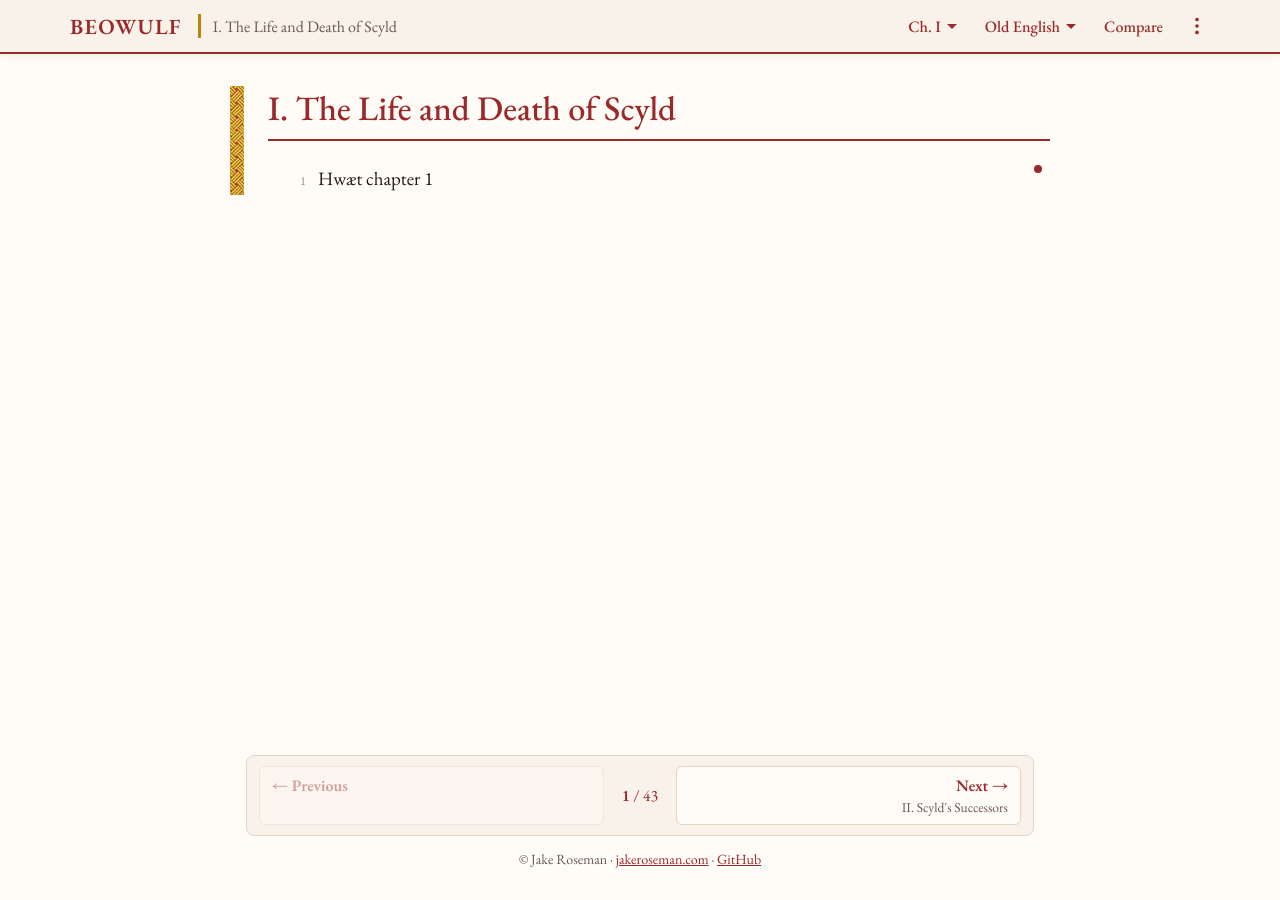
Scenario: navigates between chapters and switches translations
The width and height of the screenshot is (1280, 900).
Expected: the text "Hwæt chapter 1" is shown, [318,166,433,191]
Click the button with aria-label "Next chapter" at (982, 786), box [676,766,1021,825]
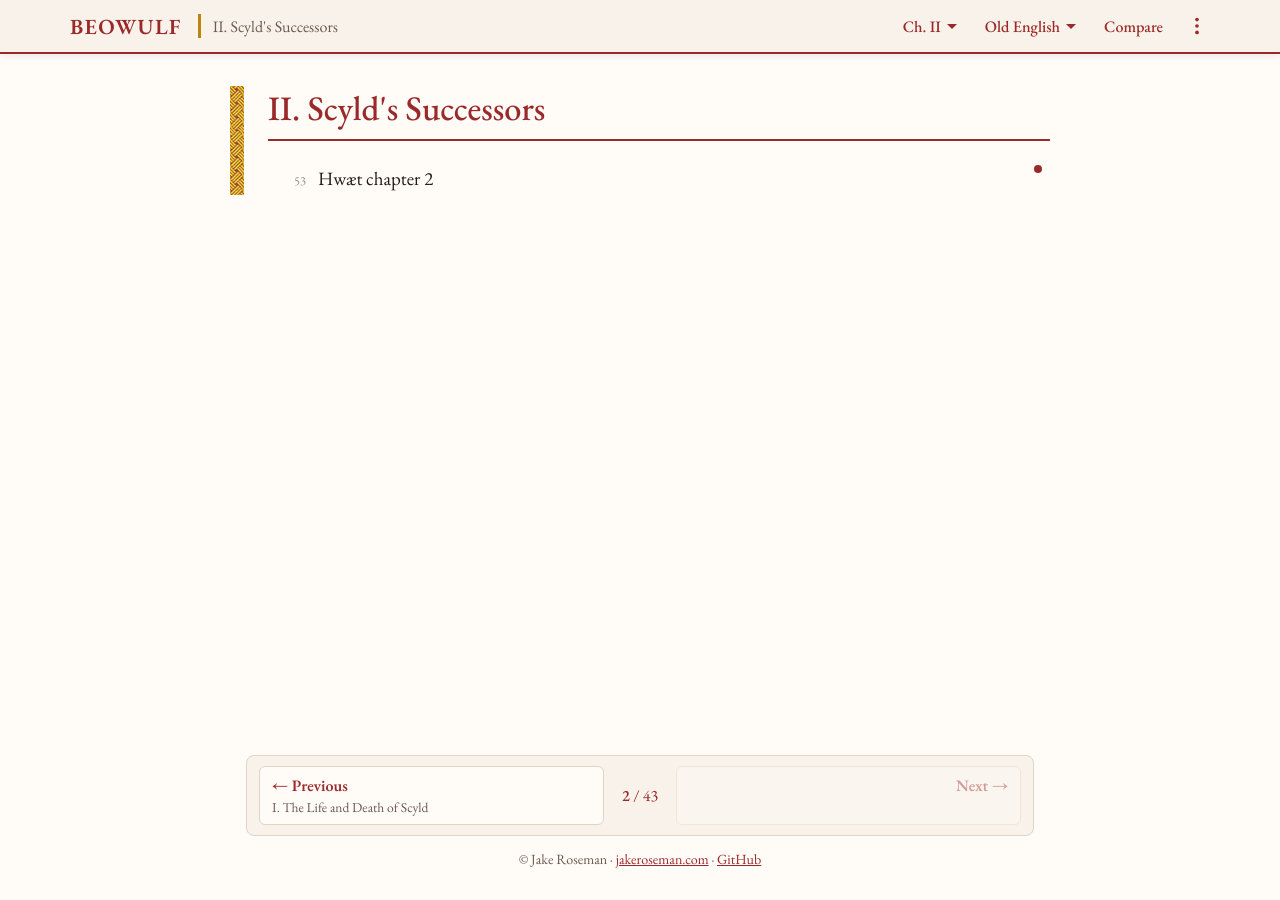
Expected: the text "Hwæt chapter 2" is shown, [318,166,433,191]
Click the button "Old English" at (1030, 26), box [974,8,1087,44]
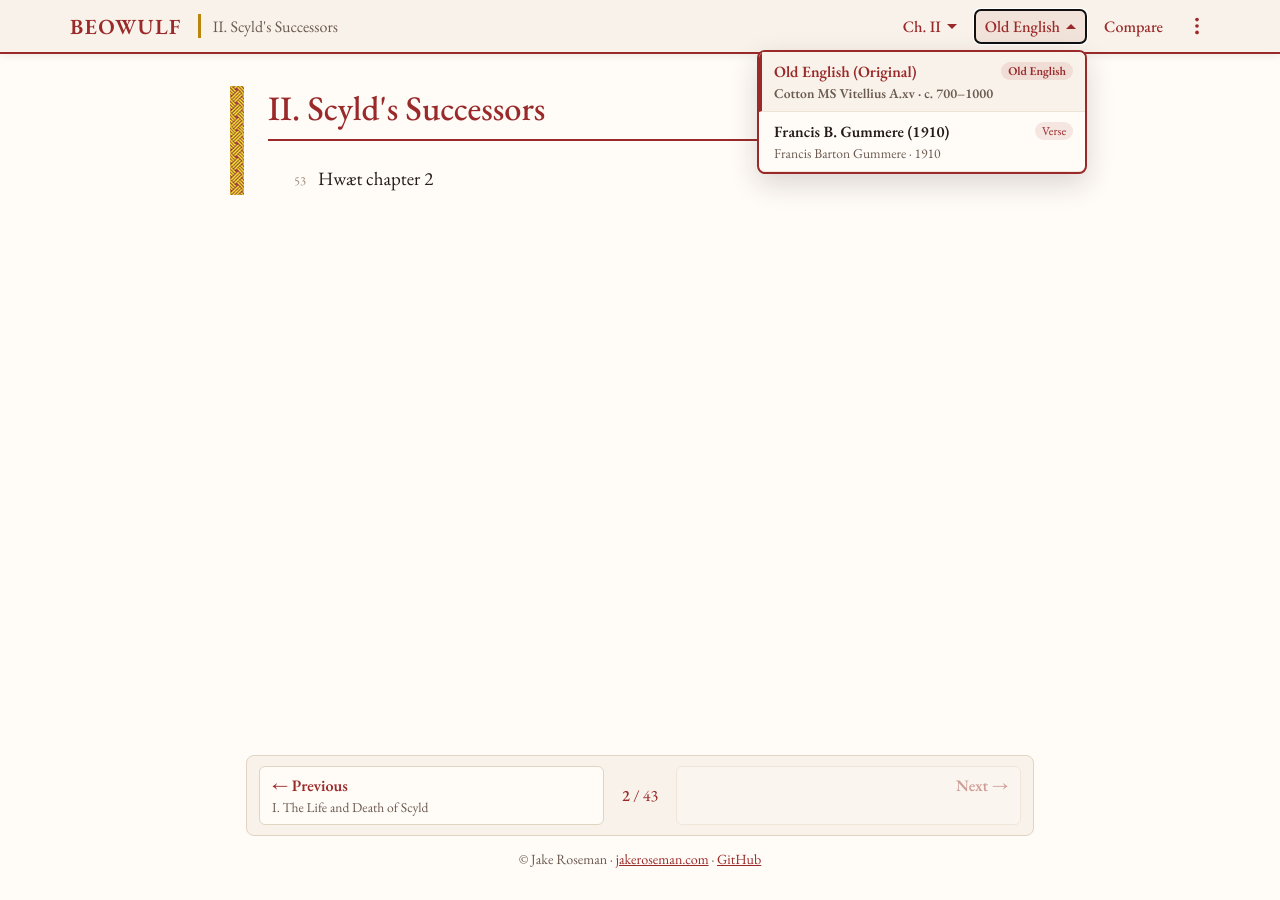
Click the menu item "Francis B. Gummere" at (922, 142), box [759,112,1085,172]
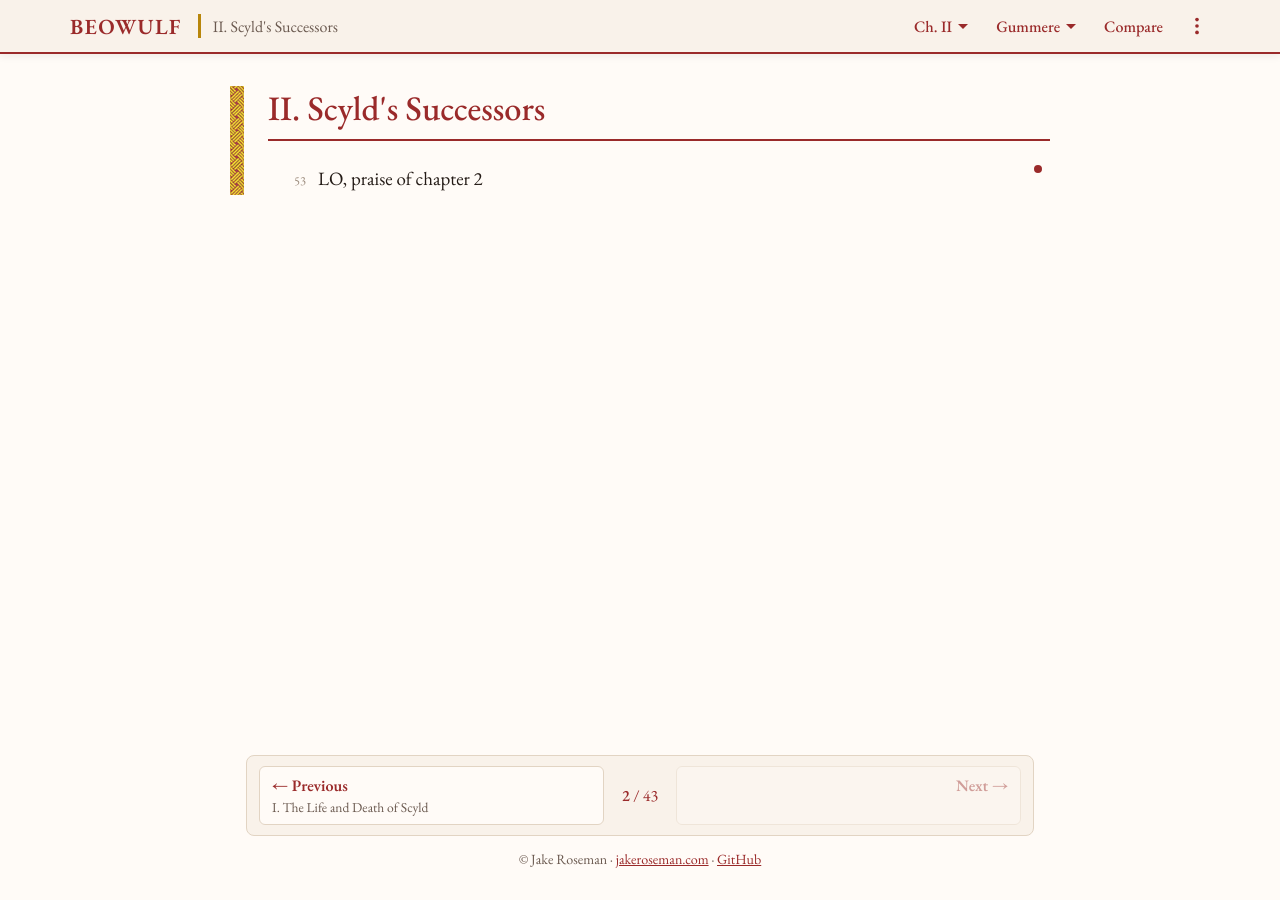
Expected: the text "LO, praise of chapter 2" is shown, [318,166,483,191]
